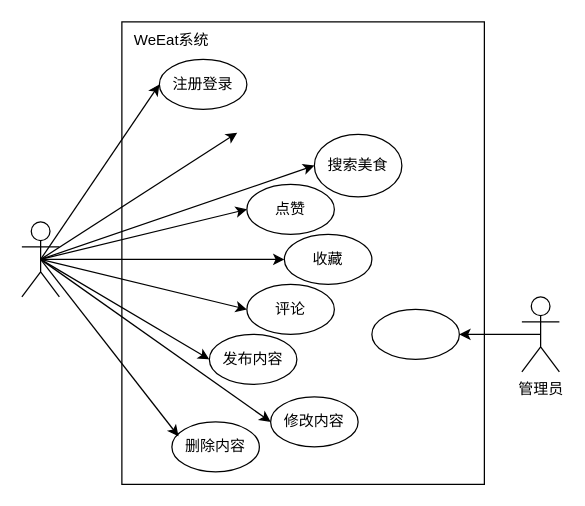
The diagram is 585 pixels wide and 506 high, and some of its shapes have lost their labels. Each missing label, with the centre of its shape:
审核内容: the point at 415,333
用户: the point at 40,259
